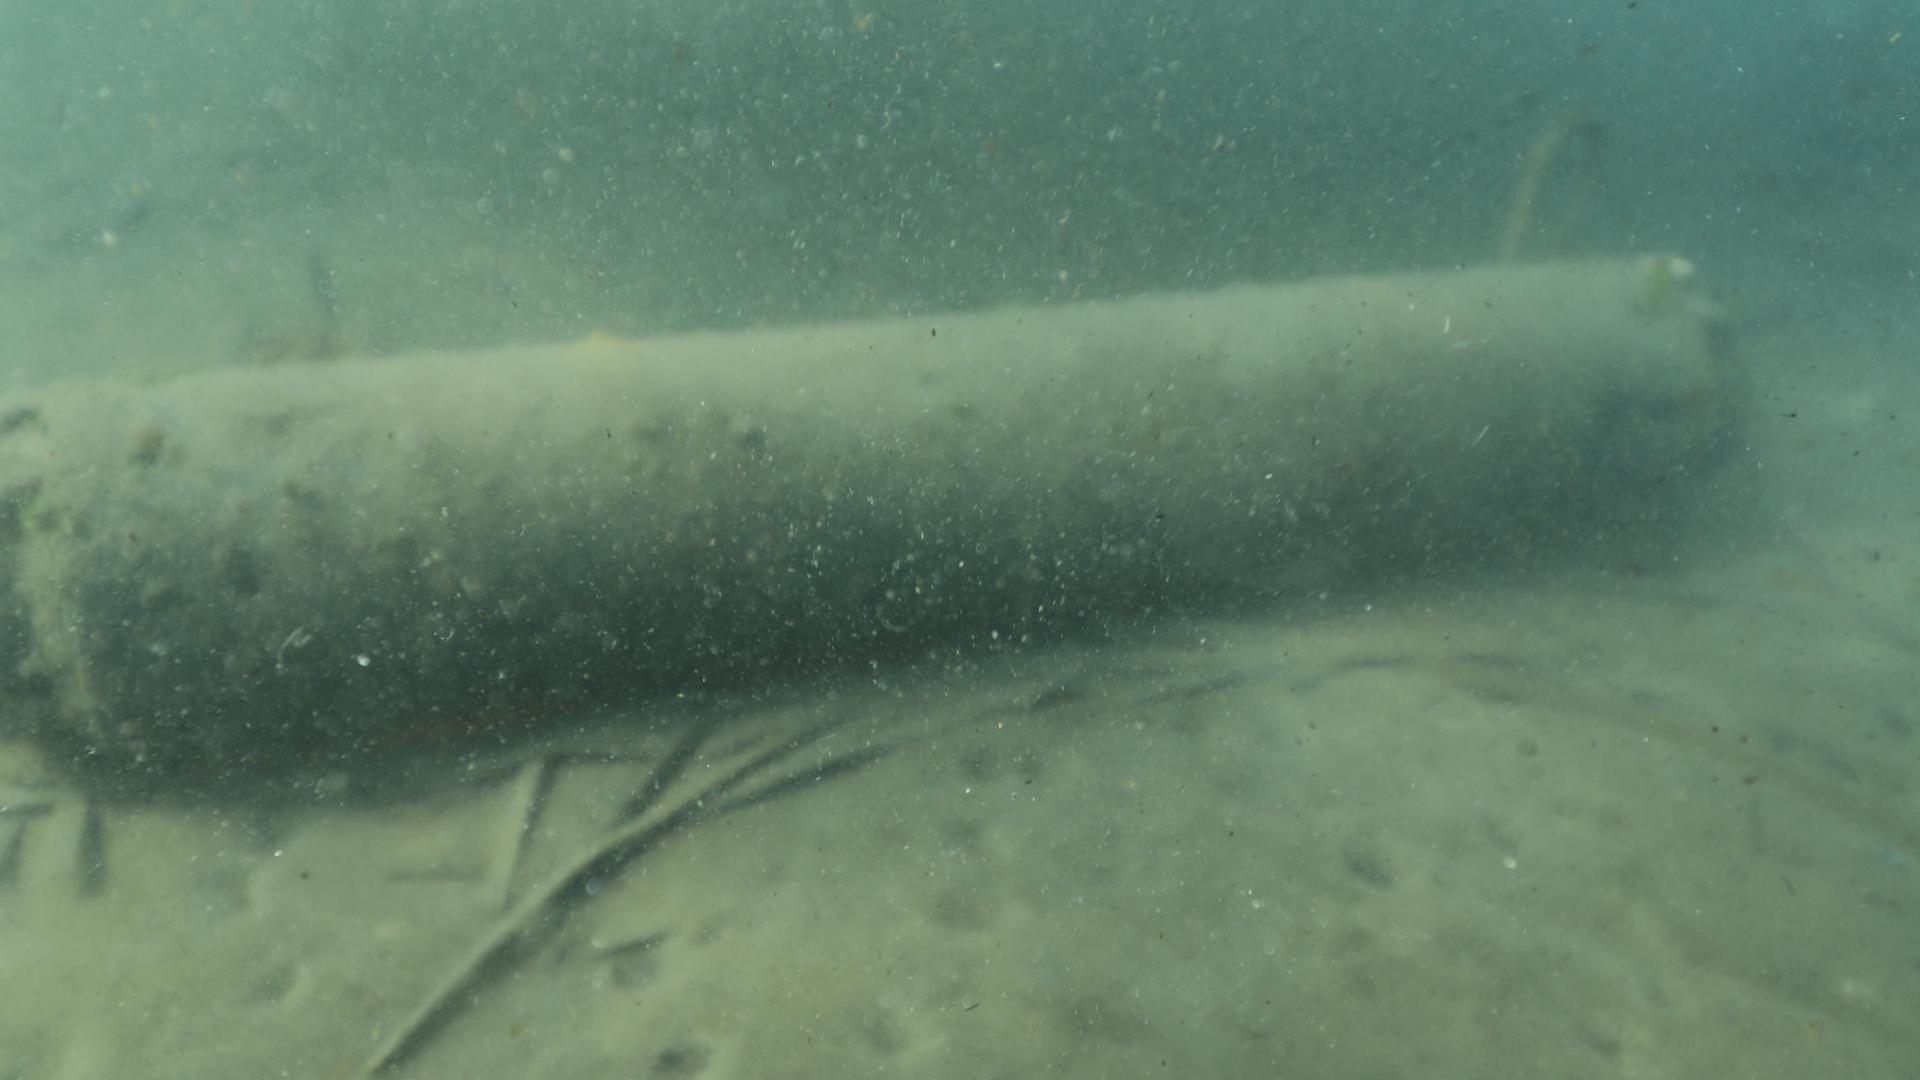eel fish trap: (0, 248, 1750, 802)
